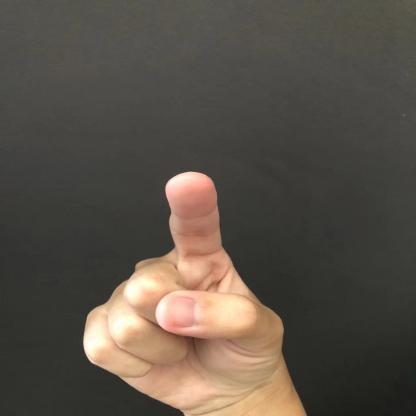finger_point: (94, 148, 295, 258)
